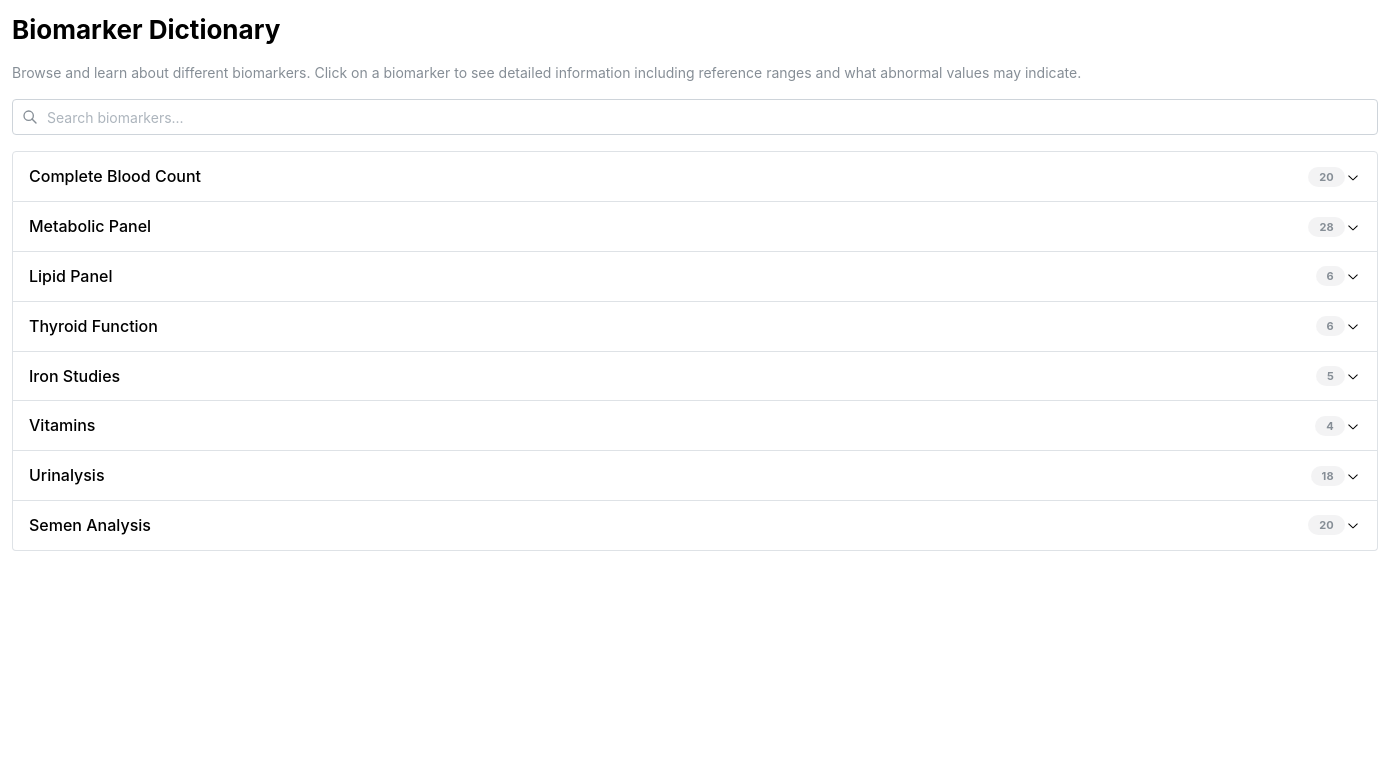
Scenario: BiomarkerDictionary › search functionality › should filter biomarkers when searching
Type "glucose" into the field with placeholder "Search biomarkers...".
click(695, 117); type("glucose")  # box [12,99,1378,135]
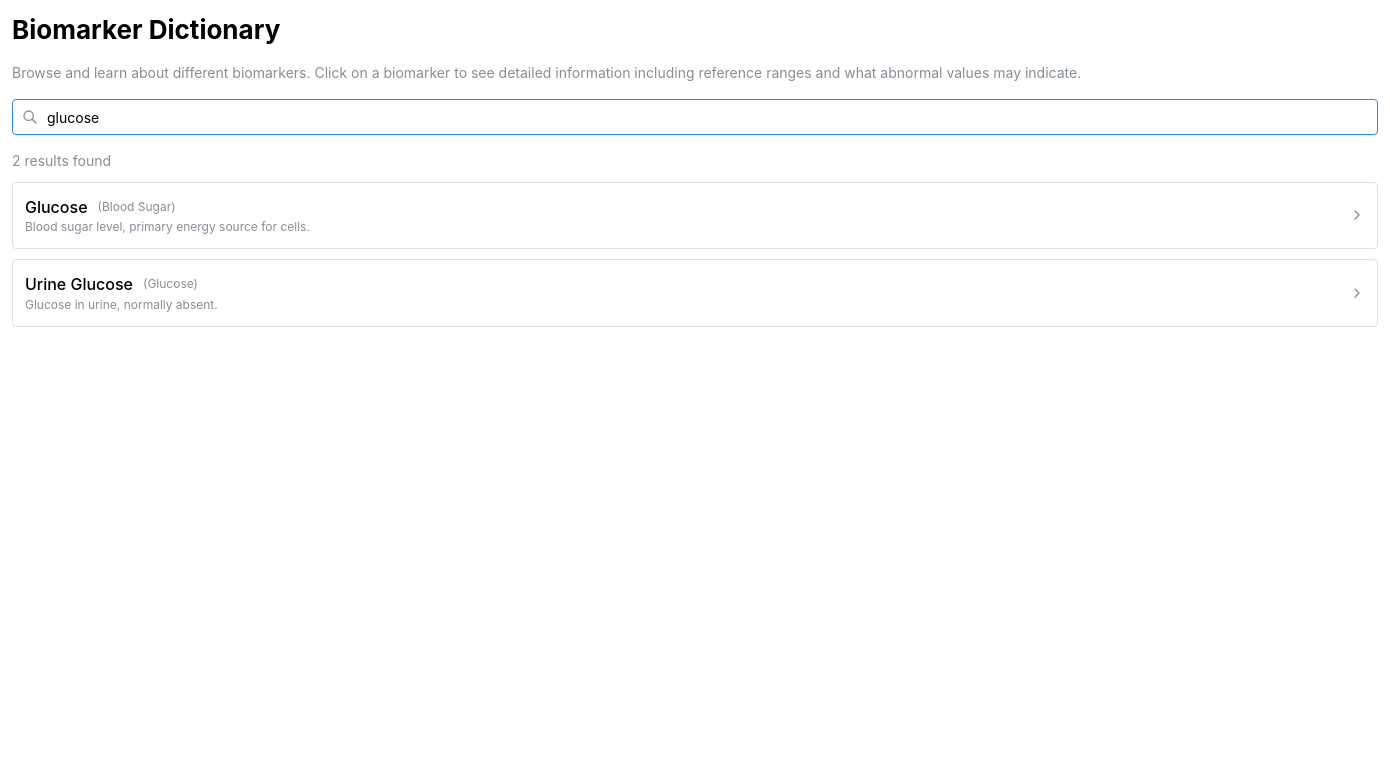
Expected: the text "Glucose" is shown, [25,195,88,220]
